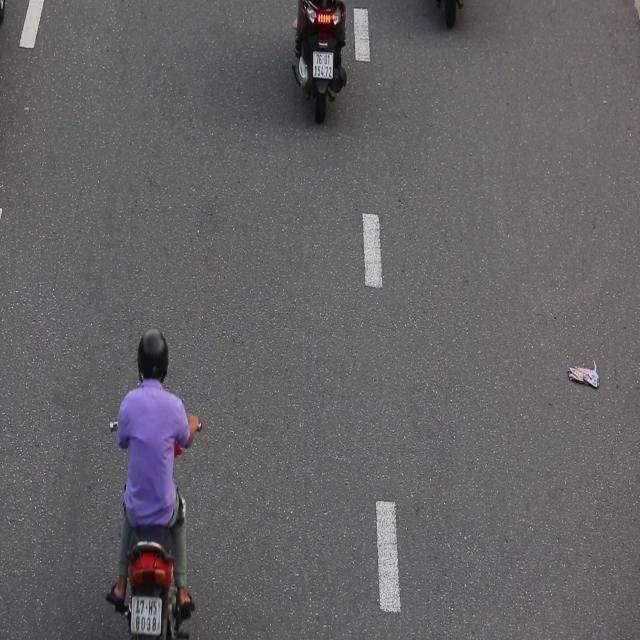motorbike: (101, 320, 204, 640)
